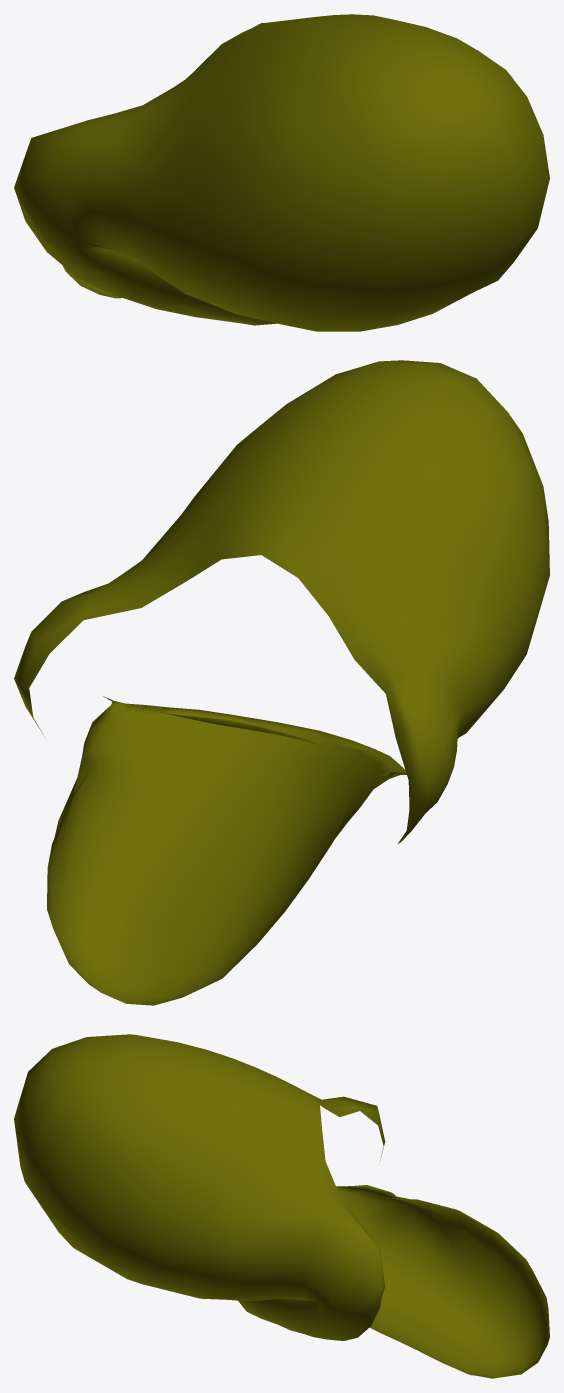
Rendered from beak_17.glb.
The picture shows the model from 3 angles, top to bottom: view 1: azimuth 30°, elevation 25°; view 2: azimuth 150°, elevation 25°; view 3: azimuth 270°, elevation 25°; orthographic projection. The views are drawn at different scales.
Parts seen in each view (by area): view 1: beak; view 2: beak; view 3: beak.
Boxes of the visible parts, x1,y1,x2,y2 form: beak: (14,14,549,331); beak: (14,360,549,1005); beak: (14,1034,549,1378).
Bounding box in the file's own units: 0.1459 × 0.1432 × 0.2144.
